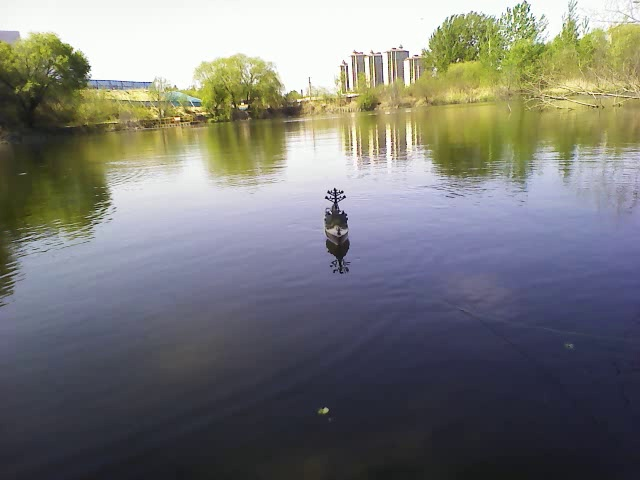warship: (322, 181, 355, 250)
